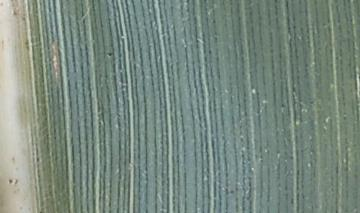tarspot: (10, 7, 18, 17), (105, 51, 114, 58), (210, 17, 217, 26), (184, 6, 191, 14), (35, 155, 41, 164), (7, 177, 13, 185), (280, 102, 286, 109), (207, 48, 213, 55), (184, 1, 190, 5)
